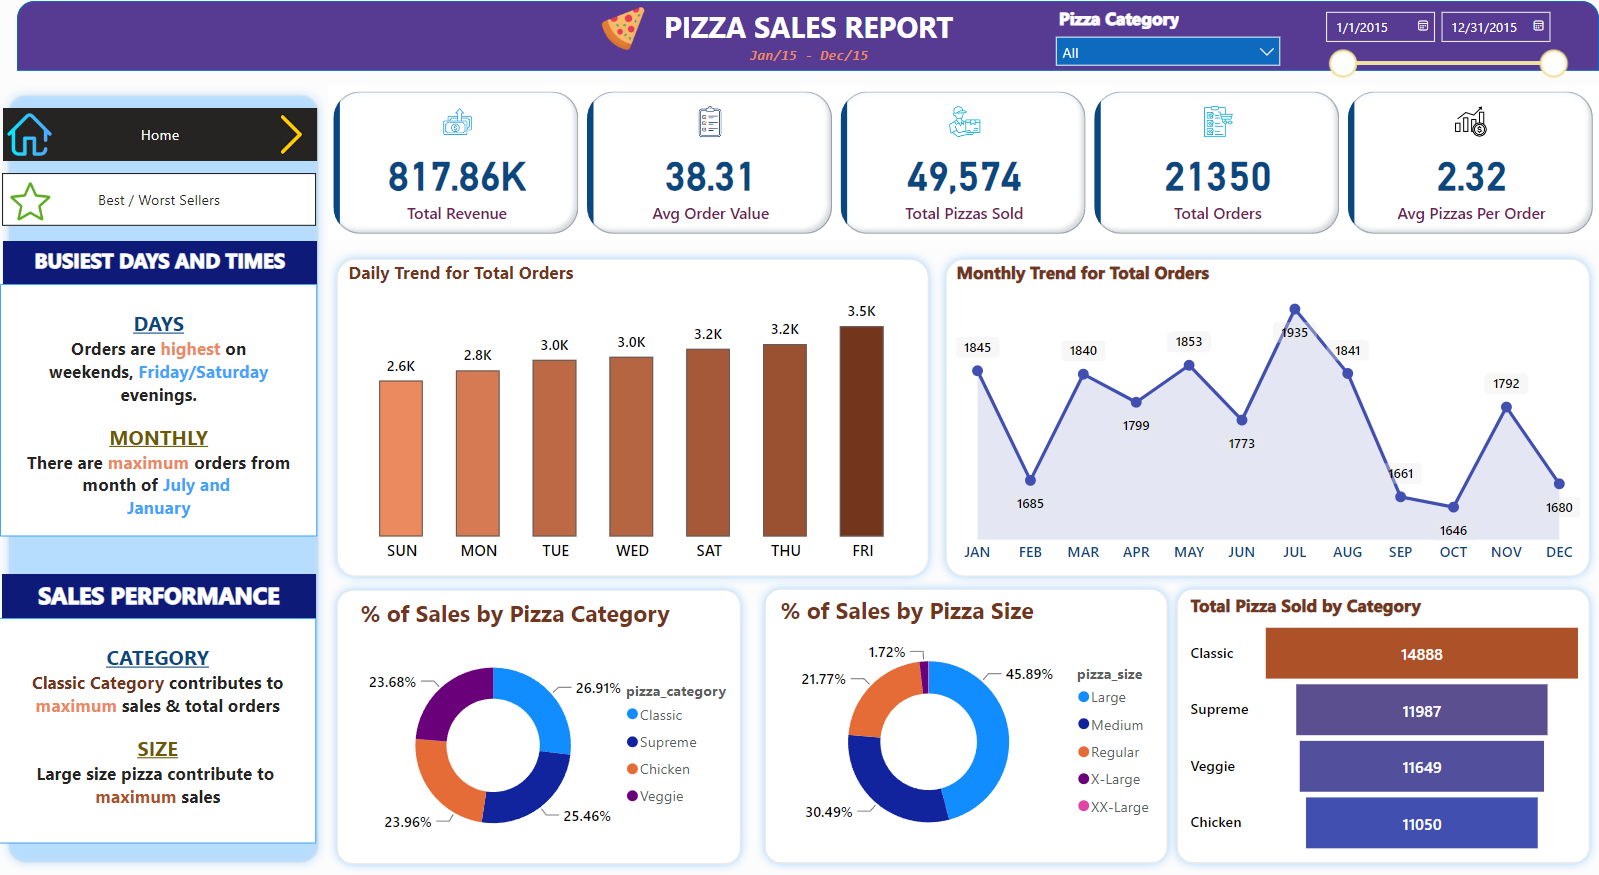

This screenshot's page, from the dashboard's own definition file:
{"tool":"powerbi","page":{"name":"Home","canvas":[1500,820],"ordinal":0},"visuals":[{"type":"cardVisual","fields":{"Data":["Key Measures.Total Revenue","Key Measures.Avg Order Value","Key Measures.Total Pizzas Sold","Key Measures.Total Orders","Key Measures.Avg Pizzas Per Order"]},"box":[305,87.7,1178,142.8],"z":0},{"type":"shape","box":[0,88.2,304.7,728.2],"z":1000},{"type":"shape","box":[16.5,9.4,1465.9,64.7],"z":2000},{"type":"textbox","box":[605.9,9.4,288.2,48.2],"z":3000},{"type":"textbox","box":[690.6,44.7,124.7,29.4],"z":4000},{"type":"image","box":[545.9,9.4,64.7,50.6],"z":5000},{"type":"shape","box":[304.7,240,564.7,310.6],"z":6000},{"type":"columnChart","title":"Daily Trend for Total Orders","fields":{"Category":["pizza_sales.Order Day"],"Y":["Key Measures.Total Orders"]},"box":[318.8,250.6,536.5,288.2],"z":7000},{"type":"shape","box":[869.4,240,612.9,310.6],"z":8000},{"type":"areaChart","title":"Monthly Trend for Total Orders","fields":{"Y":["Key Measures.Total Orders"],"Category":["pizza_sales.Order Month"]},"box":[882.4,250.6,588.2,288.2],"z":9000},{"type":"shape","box":[304.7,547.1,390.6,270.6],"z":10000},{"type":"shape","box":[701.2,545.9,389.4,270.6],"z":11000},{"type":"shape","box":[1083.5,545.9,398.8,270.6],"z":12000},{"type":"donutChart","title":"% of Sales by Pizza Category","fields":{"Category":["pizza_sales.pizza_category"],"Y":["Key Measures.Total Revenue"]},"box":[329.4,561.2,365,247],"z":13000},{"type":"donutChart","title":"% of Sales by Pizza Size","fields":{"Y":["Key Measures.Total Revenue"],"Category":["pizza_sales.pizza_size"]},"box":[718.8,558.8,364.7,245.9],"z":14000},{"type":"funnel","title":"Total Pizza Sold by Category","fields":{"Category":["pizza_sales.pizza_category"],"Y":["Key Measures.Total Pizzas Sold"]},"box":[1098.8,558.8,374.1,245.9],"z":15000},{"type":"textbox","box":[3.5,231.8,290.6,40],"z":16000},{"type":"textbox","box":[1.2,271.8,294.1,234.1],"z":17000},{"type":"textbox","box":[2.4,540,290.6,41.2],"z":18000},{"type":"textbox","box":[0,581.2,294.1,209.4],"z":19000},{"type":"slicer","fields":{"Values":["pizza_sales.pizza_category"]},"box":[969.4,9.4,228.2,60],"z":20000},{"type":"slicer","fields":{"Values":["pizza_sales.order_date"]},"box":[1216.5,9.4,244.7,78.8],"z":21000},{"type":"pageNavigator","box":[4.1,108.1,291.7,50],"z":21001},{"type":"pageNavigator","box":[3.1,168.3,291.7,50],"z":21002},{"type":"image","box":[247.8,108.1,46.9,50],"z":21003},{"type":"image","box":[3.1,107.1,51,51],"z":21004},{"type":"image","box":[5.1,171.3,46.9,46.9],"z":21005}]}

Visuals, with their boxes in screenshot pixels (x1, y1, x2, y2), scaled from the page's 1500x820 canvas onto the 1599x875 screenshot:
cardVisual - Key Measures.Total Revenue x Key Measures.Avg Order Value: [x1=325, y1=94, x2=1581, y2=246]
shape: [x1=0, y1=94, x2=325, y2=871]
shape: [x1=18, y1=10, x2=1580, y2=79]
textbox: [x1=646, y1=10, x2=953, y2=61]
textbox: [x1=736, y1=48, x2=869, y2=79]
image: [x1=582, y1=10, x2=651, y2=64]
shape: [x1=325, y1=256, x2=927, y2=588]
"Daily Trend for Total Orders" columnChart: [x1=340, y1=267, x2=912, y2=575]
shape: [x1=927, y1=256, x2=1580, y2=588]
"Monthly Trend for Total Orders" areaChart: [x1=941, y1=267, x2=1568, y2=575]
shape: [x1=325, y1=584, x2=741, y2=873]
shape: [x1=747, y1=583, x2=1163, y2=871]
shape: [x1=1155, y1=583, x2=1580, y2=871]
"% of Sales by Pizza Category" donutChart: [x1=351, y1=599, x2=740, y2=862]
"% of Sales by Pizza Size" donutChart: [x1=766, y1=596, x2=1155, y2=859]
"Total Pizza Sold by Category" funnel: [x1=1171, y1=596, x2=1570, y2=859]
textbox: [x1=4, y1=247, x2=314, y2=290]
textbox: [x1=1, y1=290, x2=315, y2=540]
textbox: [x1=3, y1=576, x2=312, y2=620]
textbox: [x1=0, y1=620, x2=314, y2=844]
slicer - pizza_sales.pizza_category: [x1=1033, y1=10, x2=1277, y2=74]
slicer - pizza_sales.order_date: [x1=1297, y1=10, x2=1558, y2=94]
pageNavigator: [x1=4, y1=115, x2=315, y2=169]
pageNavigator: [x1=3, y1=180, x2=314, y2=233]
image: [x1=264, y1=115, x2=314, y2=169]
image: [x1=3, y1=114, x2=58, y2=169]
image: [x1=5, y1=183, x2=55, y2=233]
